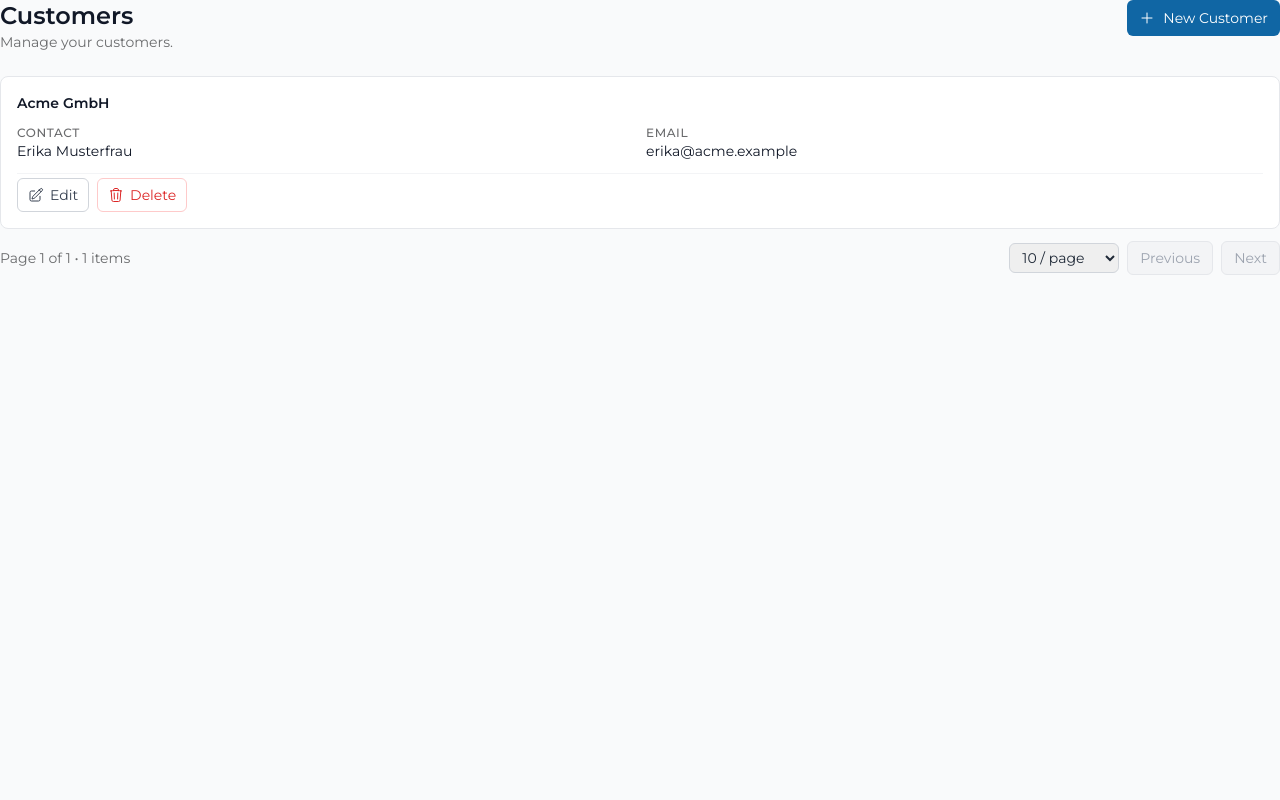
CustomersList at narrow widths (cards) › opens the confirm dialog on Delete tap and does not navigate
Click the button titled "Delete" at (142, 195), box x1=97 y1=178 x2=187 y2=212
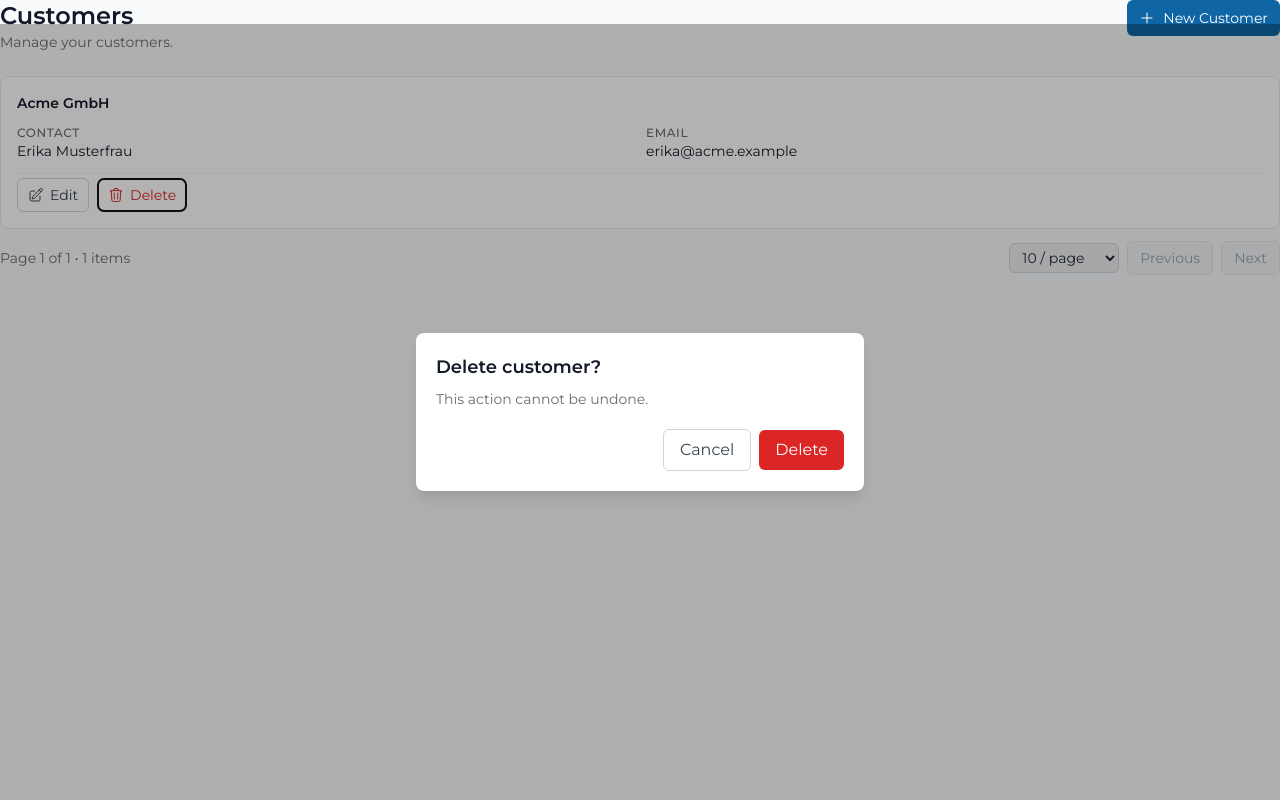
Expected: the heading "Delete customer?" is shown, x1=436 y1=356 x2=601 y2=378
